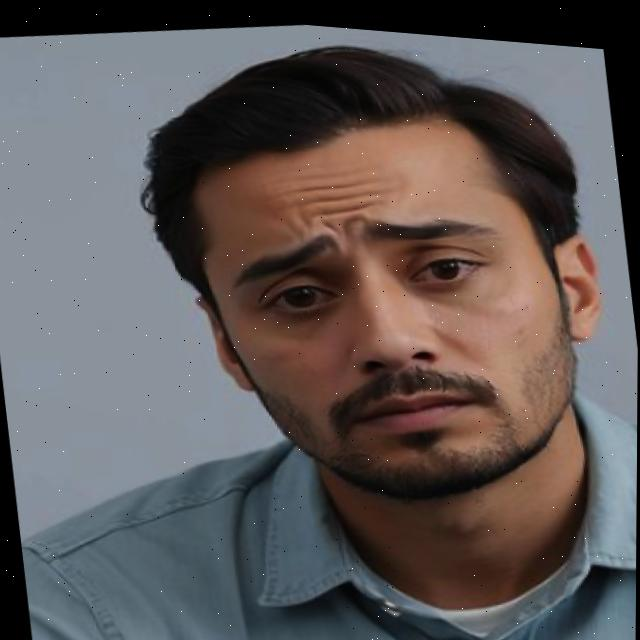sad: (171, 130, 582, 497)
